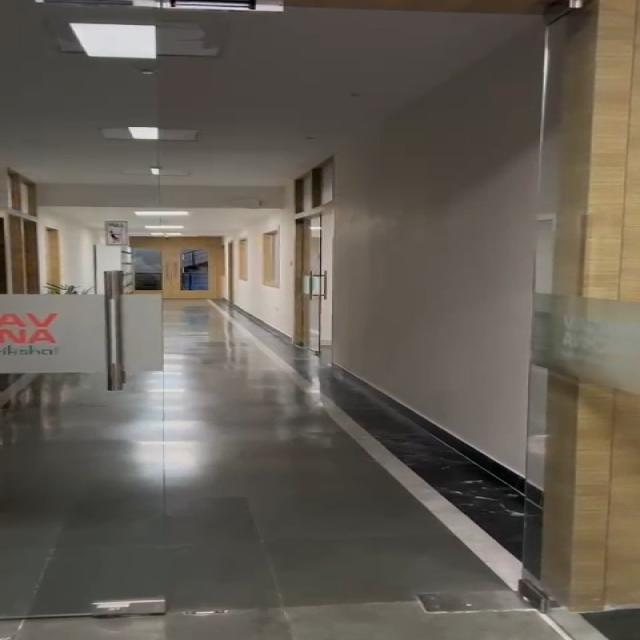door: (520, 0, 640, 631), (107, 203, 264, 325), (272, 146, 360, 308)
floor: (48, 406, 490, 640)
